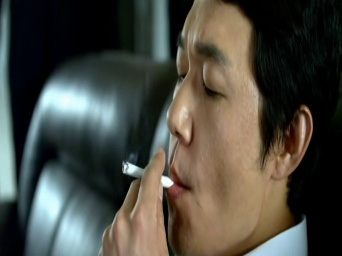smoke: (119, 160, 172, 184)
